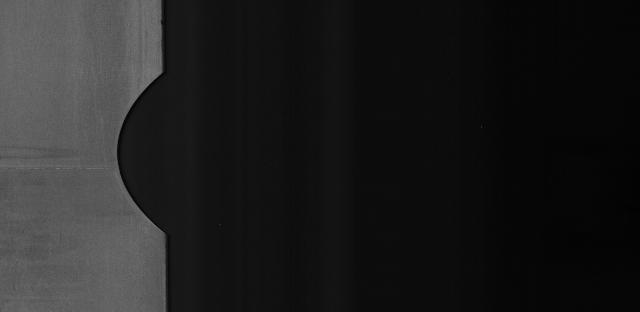welding_line: (2, 152, 135, 182)
